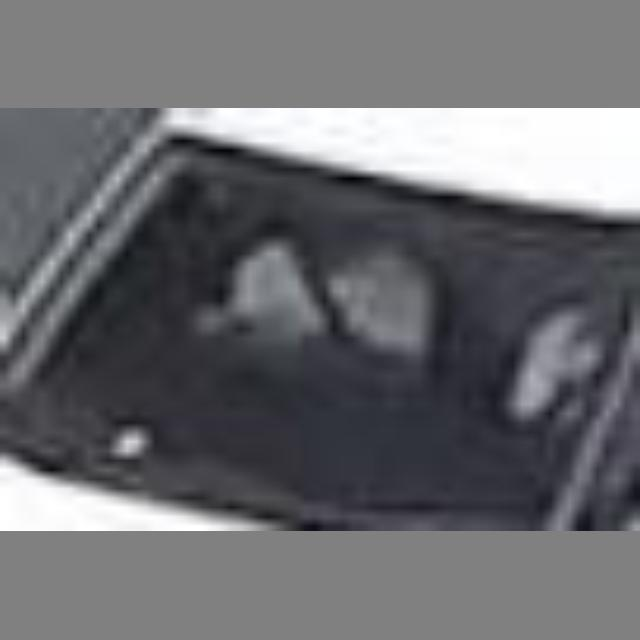pakai: (169, 202, 424, 372)
